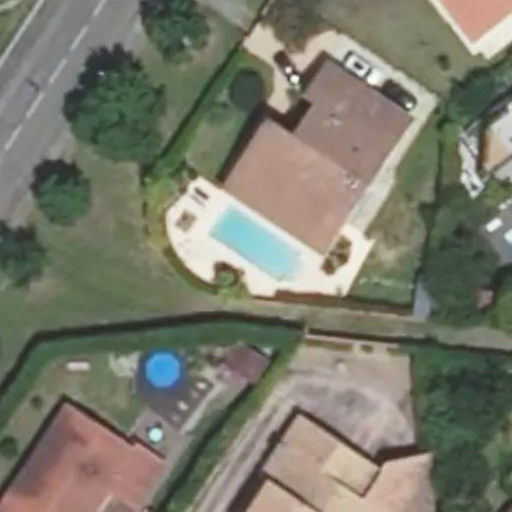pool: (206, 233, 313, 258)
